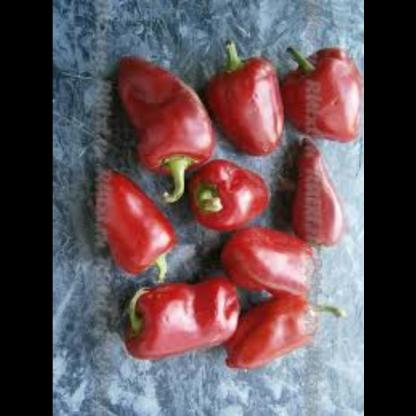bell pepper: (113, 44, 222, 183), (117, 270, 250, 368), (80, 164, 184, 282), (209, 225, 330, 305), (204, 44, 284, 164), (224, 289, 323, 377), (281, 44, 364, 143), (284, 133, 351, 253), (184, 157, 285, 234)
